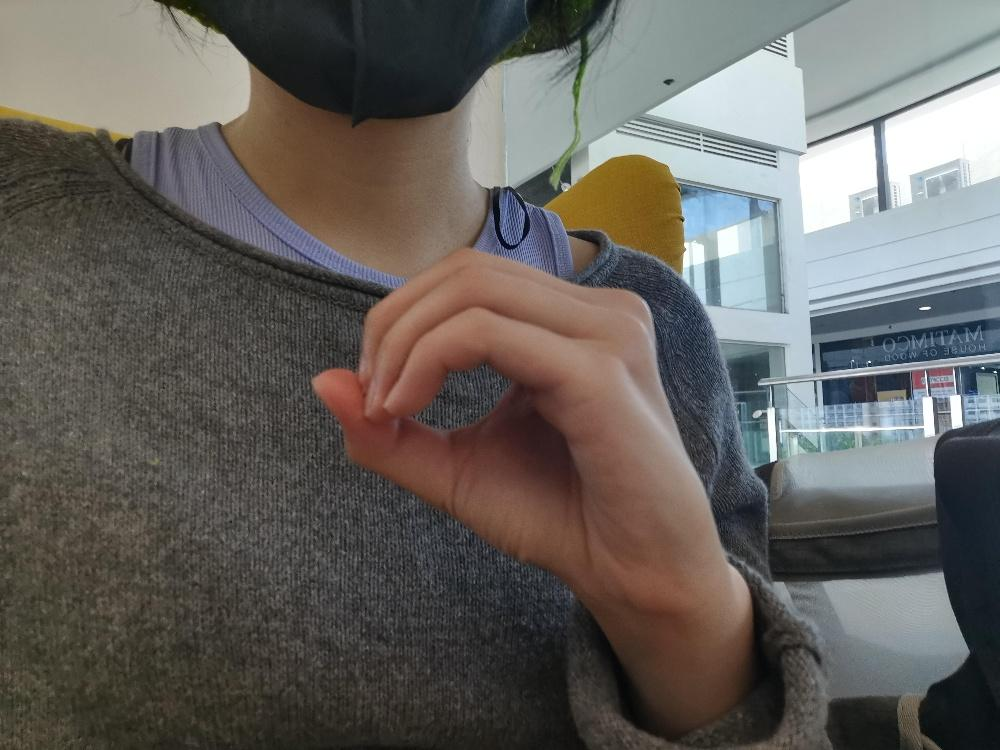o: (308, 245, 724, 618)
